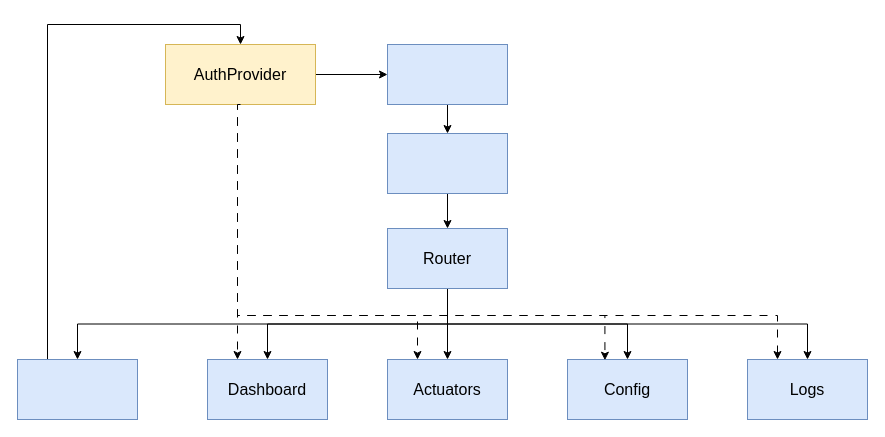
Image size: 885x437. Some labels were removed from this diagram. Here are the shapes that lost their labels. From the top down, the centre of each, then its label:
point (447, 74): App
point (447, 163): Navbar
point (77, 389): Login
